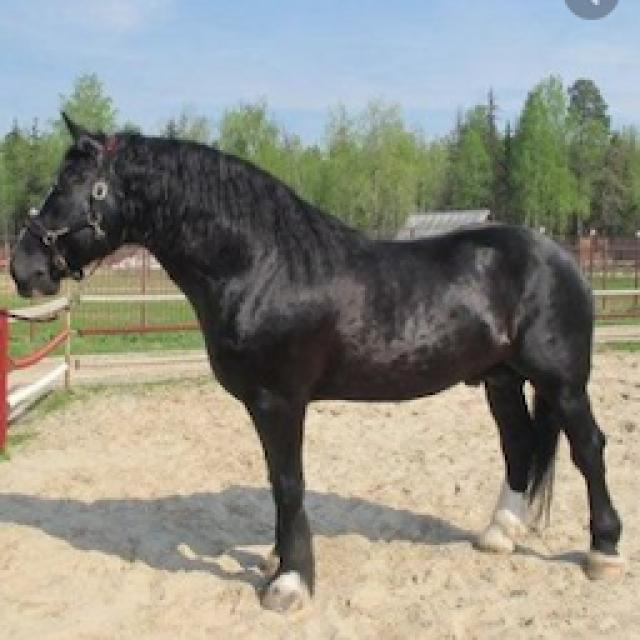Horse: (2, 102, 636, 616)
